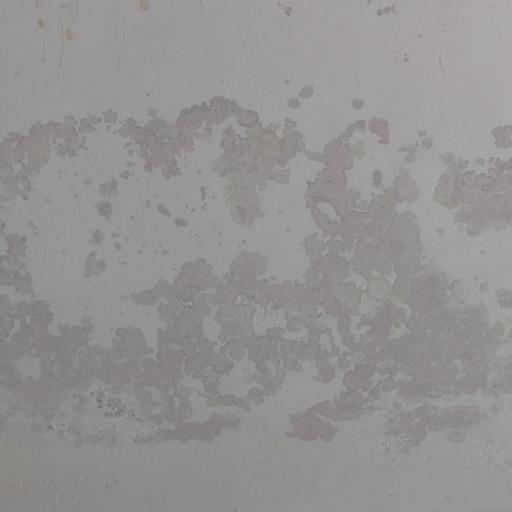peeling: (0, 99, 512, 470)
